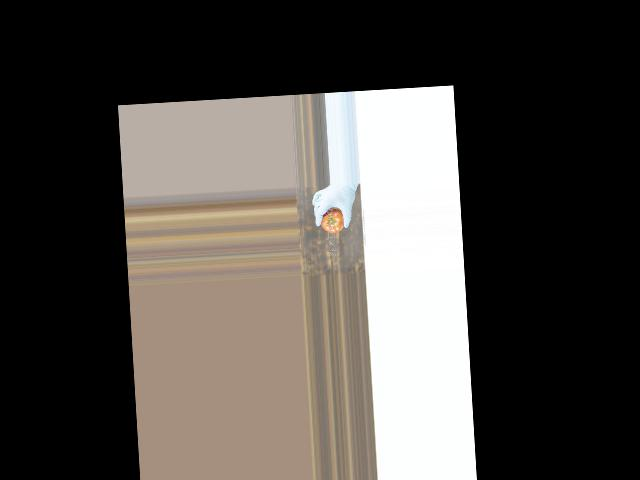tomato: (320, 208, 344, 234)
